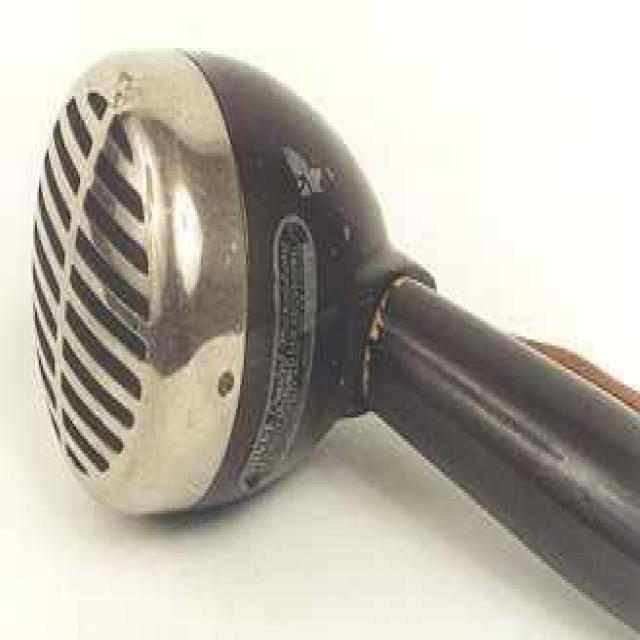microphone: (29, 41, 640, 636)
